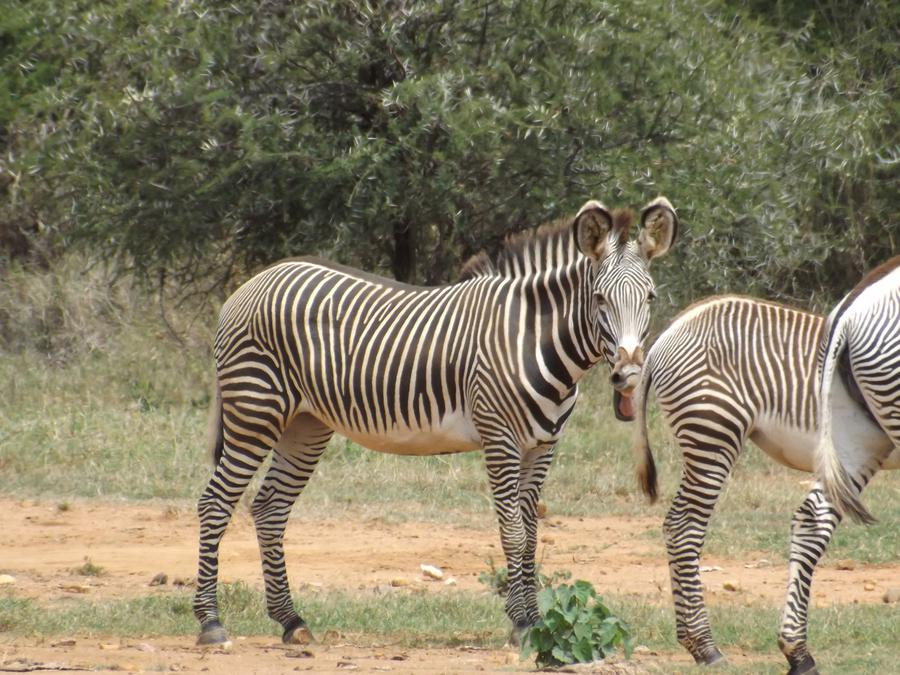zebra_grevys: (211, 247, 531, 452)
